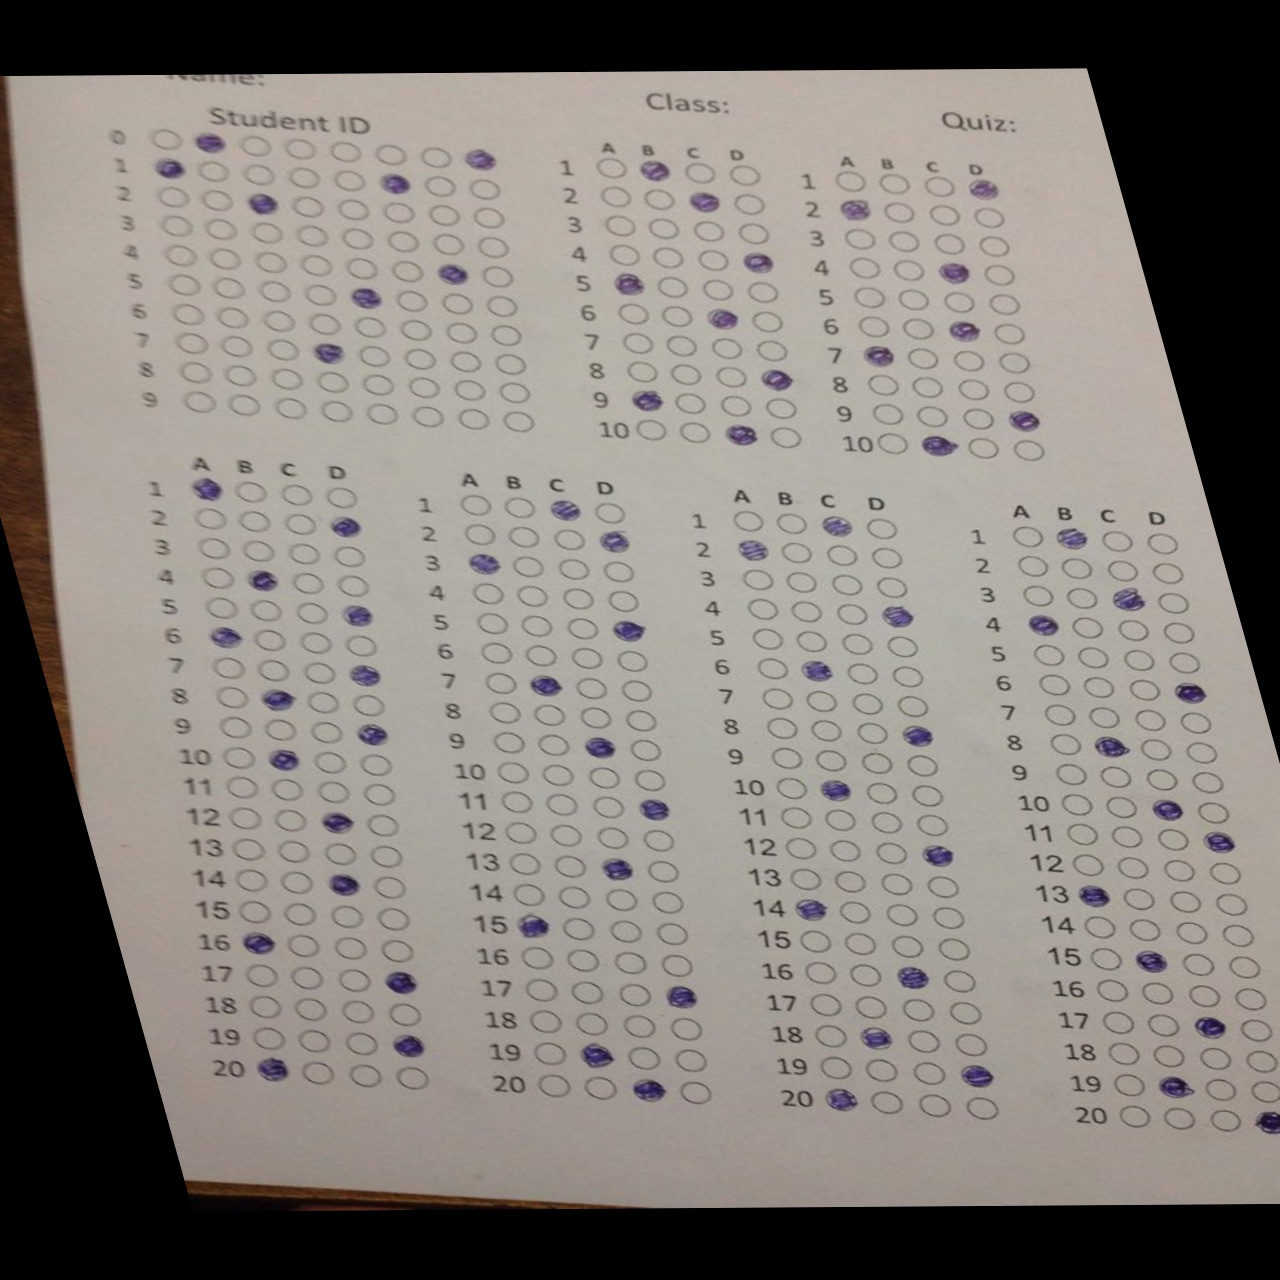not-c: (338, 1027, 384, 1058), (243, 992, 290, 1023), (331, 995, 377, 1026), (329, 965, 376, 995), (326, 933, 373, 964), (275, 898, 322, 928), (232, 897, 279, 927), (229, 865, 275, 896), (315, 838, 362, 869), (223, 803, 270, 833), (520, 1006, 568, 1035), (268, 838, 316, 867), (321, 900, 369, 930), (1145, 558, 1193, 587), (552, 881, 599, 911), (538, 790, 585, 819), (529, 730, 576, 760), (571, 702, 618, 731), (568, 673, 615, 702), (598, 883, 645, 912), (602, 918, 649, 947), (655, 949, 702, 979), (607, 947, 654, 976), (617, 1013, 663, 1042), (287, 1026, 334, 1055), (287, 994, 334, 1023), (237, 960, 284, 989), (280, 931, 327, 960), (271, 869, 318, 898), (224, 833, 271, 863), (263, 775, 309, 804), (217, 771, 264, 801), (855, 750, 903, 778), (282, 962, 331, 990), (196, 594, 244, 622), (526, 701, 572, 730), (628, 765, 674, 795), (636, 825, 682, 855), (615, 981, 661, 1010), (663, 1014, 709, 1043), (621, 1043, 667, 1073), (1075, 912, 1121, 941), (1053, 790, 1098, 819), (809, 1020, 856, 1048), (842, 962, 888, 990), (794, 928, 840, 956), (869, 839, 915, 867), (873, 870, 920, 898), (858, 778, 905, 806), (843, 690, 890, 719), (801, 686, 847, 714), (758, 714, 805, 742), (815, 806, 862, 835), (576, 1074, 622, 1102), (559, 946, 606, 974), (539, 819, 586, 847), (533, 760, 580, 788), (622, 736, 669, 764), (583, 762, 629, 790), (590, 825, 636, 853), (640, 855, 687, 883), (646, 887, 693, 915), (648, 918, 695, 946), (672, 1078, 719, 1107), (293, 1058, 340, 1087), (245, 1024, 292, 1053), (267, 806, 314, 835), (186, 505, 233, 533), (1139, 527, 1186, 556), (1026, 639, 1073, 667), (533, 1070, 578, 1099), (1193, 797, 1238, 826), (1210, 891, 1254, 920), (1043, 729, 1088, 758), (568, 1012, 617, 1039), (188, 535, 236, 561), (193, 565, 241, 592), (207, 683, 256, 710), (948, 1030, 994, 1058), (959, 1092, 1005, 1121), (911, 1091, 956, 1119), (904, 1058, 949, 1087), (900, 1027, 946, 1055), (896, 995, 941, 1023), (799, 959, 845, 987), (838, 930, 884, 958), (877, 899, 922, 927), (783, 864, 829, 892), (778, 835, 824, 863), (850, 717, 896, 745), (527, 1039, 573, 1067), (564, 979, 610, 1007), (546, 852, 592, 880), (613, 678, 659, 706), (618, 706, 663, 734), (669, 1046, 715, 1074), (1133, 978, 1179, 1006), (1122, 676, 1167, 704), (1150, 588, 1196, 617), (1156, 619, 1201, 647), (1160, 648, 1206, 676), (1172, 708, 1218, 736), (1216, 921, 1261, 949), (1108, 1071, 1153, 1099), (1099, 1039, 1145, 1067), (1095, 1007, 1141, 1035), (1089, 976, 1135, 1005), (1065, 850, 1111, 878), (1032, 670, 1077, 699), (1159, 1103, 1203, 1132), (859, 1055, 906, 1082), (849, 993, 896, 1020), (813, 1054, 860, 1081), (828, 869, 874, 896), (822, 836, 869, 863), (774, 802, 821, 829), (806, 745, 853, 772), (802, 717, 849, 744), (554, 915, 601, 942), (586, 794, 633, 821), (216, 744, 263, 771), (248, 655, 295, 682), (205, 653, 252, 680), (1180, 738, 1227, 765), (1116, 883, 1160, 911), (1175, 949, 1219, 978), (1138, 765, 1183, 794), (1184, 765, 1228, 794), (1201, 858, 1246, 886), (1223, 952, 1267, 980), (1228, 983, 1273, 1012), (1234, 1017, 1279, 1046), (1198, 1075, 1242, 1103), (1111, 1102, 1156, 1130), (1058, 819, 1103, 847), (1048, 760, 1092, 788), (1039, 702, 1083, 730), (865, 1089, 911, 1116), (803, 990, 849, 1017), (886, 933, 932, 960), (862, 809, 907, 836), (757, 685, 803, 712), (765, 744, 811, 771), (768, 775, 813, 802), (302, 719, 348, 745), (256, 715, 301, 742), (1169, 918, 1214, 945), (1101, 556, 1146, 583), (1151, 825, 1194, 853), (1118, 645, 1162, 673), (1085, 946, 1129, 974), (1016, 583, 1060, 611), (236, 537, 282, 563), (207, 302, 252, 329), (833, 898, 878, 925), (595, 556, 640, 583), (312, 779, 356, 806), (346, 692, 390, 719), (326, 542, 370, 568), (361, 810, 406, 837), (1109, 853, 1153, 880), (1123, 915, 1167, 942), (1141, 1009, 1185, 1036), (1183, 980, 1227, 1007), (1163, 888, 1207, 915), (1136, 736, 1180, 763), (1129, 707, 1173, 734), (1112, 617, 1157, 644), (1092, 526, 1137, 553), (1203, 1107, 1247, 1133), (888, 692, 934, 717), (210, 715, 256, 741), (246, 628, 292, 654), (241, 597, 287, 622), (158, 241, 202, 268), (424, 202, 468, 229), (924, 202, 967, 229), (819, 542, 863, 568), (375, 937, 418, 964), (1145, 1041, 1189, 1068), (1192, 1043, 1235, 1070), (1159, 856, 1203, 883), (195, 188, 239, 213), (248, 250, 293, 275), (264, 366, 308, 392), (299, 312, 343, 338), (327, 166, 372, 192), (331, 196, 375, 222), (339, 256, 383, 281), (490, 379, 535, 404), (470, 236, 515, 261), (659, 332, 703, 358), (588, 154, 633, 179), (862, 372, 906, 397), (942, 998, 987, 1023), (835, 631, 879, 656), (776, 568, 821, 594), (727, 508, 771, 533), (550, 554, 594, 580), (510, 584, 554, 610), (468, 611, 512, 636), (350, 753, 395, 778), (340, 632, 384, 658), (332, 572, 376, 598), (365, 844, 409, 870), (372, 905, 416, 931), (341, 1061, 386, 1087), (1099, 794, 1144, 819), (356, 779, 399, 806), (243, 220, 288, 245), (652, 275, 697, 300), (707, 365, 753, 389), (945, 347, 990, 372), (144, 125, 188, 151), (173, 359, 217, 384), (233, 132, 277, 158), (236, 161, 279, 186), (253, 277, 297, 302), (316, 399, 360, 424), (308, 368, 352, 394), (297, 281, 340, 307), (286, 195, 329, 220), (360, 400, 403, 425), (394, 318, 437, 343), (380, 229, 423, 254), (367, 142, 410, 168), (447, 375, 490, 401), (452, 407, 496, 433), (478, 264, 522, 290), (673, 418, 716, 444), (655, 302, 699, 328), (646, 243, 689, 268), (640, 215, 683, 240), (604, 241, 647, 267), (617, 331, 660, 356), (722, 161, 765, 186), (885, 256, 928, 281), (982, 291, 1026, 316), (996, 379, 1040, 404), (862, 515, 905, 540), (899, 753, 942, 778), (933, 937, 976, 962), (738, 595, 782, 621), (840, 660, 884, 686), (556, 584, 599, 610), (566, 645, 610, 670), (519, 641, 563, 667), (484, 699, 527, 724), (508, 881, 551, 907), (516, 944, 559, 969), (520, 978, 564, 1003), (273, 482, 316, 508), (232, 508, 275, 533), (286, 568, 329, 594), (307, 749, 350, 775), (368, 873, 411, 899), (383, 1000, 427, 1026), (392, 1065, 435, 1091), (1056, 554, 1099, 580), (1070, 644, 1114, 669), (150, 183, 195, 207), (159, 272, 204, 297), (170, 331, 215, 355), (218, 363, 263, 388), (202, 246, 246, 271), (197, 217, 241, 241), (189, 158, 233, 183), (275, 136, 320, 161), (320, 139, 365, 164), (347, 313, 392, 338), (352, 343, 396, 368), (354, 370, 399, 395), (406, 403, 450, 428), (401, 375, 445, 400), (387, 287, 431, 312), (374, 198, 418, 223), (413, 145, 457, 170), (435, 290, 479, 314), (496, 408, 540, 433), (489, 350, 533, 375), (483, 324, 527, 348), (467, 204, 511, 229), (459, 176, 504, 200), (638, 186, 682, 211), (598, 212, 642, 237), (613, 300, 658, 325), (693, 275, 737, 300), (690, 247, 735, 272), (686, 218, 730, 243), (731, 222, 776, 246), (738, 278, 783, 302), (760, 395, 804, 420), (871, 170, 915, 195), (917, 172, 961, 197), (966, 204, 1010, 229), (973, 234, 1017, 259), (881, 227, 926, 252), (937, 290, 981, 314), (891, 286, 935, 311), (986, 319, 1030, 343), (993, 349, 1037, 374), (953, 376, 998, 401), (912, 403, 956, 428), (869, 429, 913, 454), (871, 576, 915, 600), (878, 633, 922, 658), (885, 663, 930, 688), (911, 812, 955, 837), (937, 968, 981, 993), (789, 629, 833, 654), (775, 540, 819, 565), (769, 511, 813, 536), (588, 501, 633, 525), (502, 524, 546, 549), (598, 587, 642, 612), (610, 648, 654, 673), (474, 639, 518, 663), (493, 790, 538, 815), (319, 486, 363, 511), (275, 511, 320, 536), (290, 600, 334, 625), (298, 660, 342, 685), (1060, 585, 1104, 610), (1064, 613, 1109, 638), (1082, 704, 1126, 729), (828, 166, 870, 192), (847, 282, 890, 308), (896, 315, 938, 341), (901, 345, 944, 370), (1241, 1048, 1280, 1076), (166, 302, 210, 327), (177, 388, 220, 413), (222, 392, 265, 416), (206, 275, 250, 300), (259, 308, 302, 333), (261, 338, 305, 362), (295, 252, 339, 277), (290, 224, 333, 248), (281, 164, 325, 189), (335, 226, 379, 251), (397, 347, 441, 372), (418, 173, 462, 198), (425, 231, 469, 256), (440, 319, 483, 343), (628, 416, 672, 441), (668, 392, 712, 416), (663, 361, 707, 386), (619, 358, 662, 382), (703, 335, 747, 360), (678, 158, 721, 183), (728, 191, 771, 216), (745, 309, 789, 334), (751, 338, 795, 362), (715, 394, 758, 418), (879, 198, 922, 223), (927, 231, 971, 256), (838, 226, 881, 251), (840, 256, 884, 280), (975, 263, 1019, 287), (852, 313, 896, 338), (956, 406, 1000, 430), (866, 401, 910, 425), (906, 375, 949, 400), (1006, 436, 1049, 461), (865, 544, 908, 568), (905, 782, 948, 806), (920, 873, 964, 898), (927, 905, 971, 930), (745, 627, 789, 652), (736, 568, 779, 593), (825, 572, 869, 597), (833, 601, 877, 626), (787, 598, 830, 622), (751, 655, 795, 680), (498, 493, 542, 518), (455, 493, 498, 518), (458, 520, 502, 545), (505, 554, 549, 579), (467, 579, 510, 604), (515, 613, 558, 638), (559, 615, 602, 640), (478, 670, 522, 695), (488, 728, 531, 753), (501, 821, 544, 845), (503, 850, 546, 874), (229, 477, 272, 502), (280, 540, 324, 565), (294, 629, 338, 654), (300, 689, 343, 714), (1005, 524, 1048, 549), (1077, 676, 1121, 701), (1092, 763, 1136, 788), (1105, 825, 1149, 850), (154, 213, 196, 238), (215, 334, 257, 359), (268, 395, 311, 420), (384, 258, 427, 282), (445, 348, 488, 373), (478, 293, 520, 318), (594, 183, 636, 207), (765, 424, 808, 449), (962, 435, 1005, 459), (549, 525, 591, 550), (492, 760, 535, 784), (1012, 553, 1054, 578), (1246, 1076, 1280, 1105)
taken-c: (334, 601, 380, 629), (888, 964, 935, 990), (1194, 828, 1241, 855), (1085, 733, 1132, 760), (576, 733, 622, 760), (658, 982, 704, 1009), (320, 871, 365, 899), (349, 721, 394, 749), (341, 660, 386, 688), (200, 622, 245, 651), (239, 566, 284, 594), (184, 474, 229, 502), (855, 1024, 900, 1051), (817, 1085, 863, 1112), (1152, 1073, 1198, 1099), (1185, 1012, 1231, 1039), (520, 670, 566, 697), (384, 1032, 430, 1058), (322, 512, 366, 540), (1126, 949, 1173, 975), (1071, 881, 1116, 908), (594, 855, 639, 881), (377, 968, 422, 995), (236, 930, 280, 956), (313, 809, 358, 836), (260, 744, 305, 771), (253, 685, 298, 712), (188, 129, 233, 155), (787, 896, 832, 921), (1144, 796, 1190, 822), (1020, 612, 1065, 638), (1104, 588, 1150, 614), (1048, 524, 1094, 550), (631, 796, 676, 822), (510, 911, 556, 937), (573, 1042, 619, 1068), (625, 1077, 670, 1103), (755, 366, 799, 392), (606, 271, 651, 297), (736, 248, 781, 274), (632, 157, 676, 183), (874, 602, 919, 628), (954, 1061, 999, 1087), (1166, 679, 1211, 704), (459, 550, 504, 576), (604, 617, 648, 642), (250, 1055, 294, 1081), (458, 147, 502, 172), (145, 155, 189, 181), (682, 188, 726, 213), (833, 196, 877, 222), (915, 842, 959, 867), (543, 496, 586, 522), (429, 263, 474, 287), (306, 340, 350, 365), (625, 388, 669, 413), (719, 422, 763, 447), (699, 306, 743, 331), (931, 259, 975, 284), (857, 343, 901, 368), (815, 515, 859, 539), (794, 658, 838, 682), (372, 170, 415, 195), (239, 191, 282, 216), (343, 285, 387, 309), (962, 176, 1006, 200), (941, 319, 985, 343), (1001, 408, 1044, 433), (915, 433, 959, 457), (731, 537, 775, 561), (896, 723, 939, 748), (590, 526, 633, 551), (813, 777, 856, 802), (1247, 1110, 1280, 1137)
